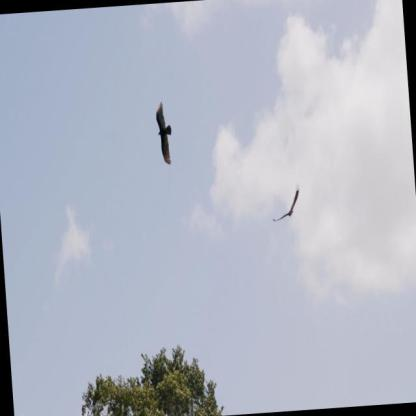bird: (269, 180, 304, 223), (154, 99, 174, 166)
